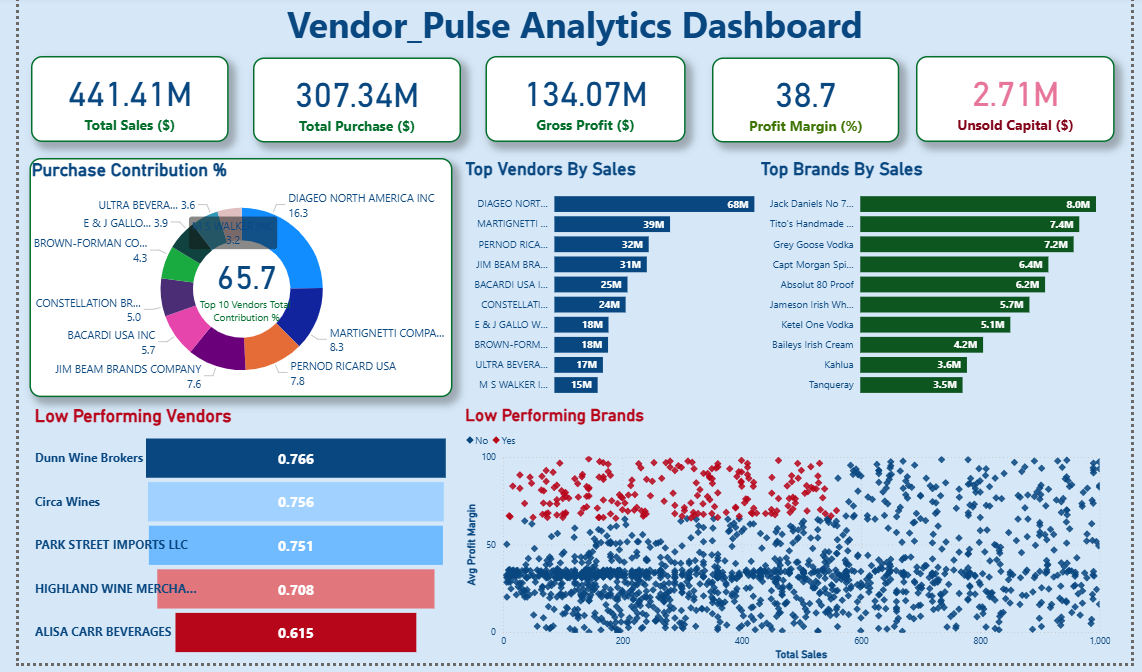

Layout of this report page (visuals, bound fields, positions):
{"tool":"powerbi","page":{"name":"Page 1","canvas":[1500,900],"ordinal":0},"visuals":[{"type":"card","fields":{"Values":["Sum(vendor_sales_summary.TotalPurchaseDollars)"]},"box":[315.8,82.4,280.9,114.6],"z":0},{"type":"card","fields":{"Values":["Sum(vendor_sales_summary.TotalSalesDollars)"]},"box":[16.8,81,266.9,116],"z":1000},{"type":"card","fields":{"Values":["Sum(vendor_sales_summary.GrossProfit)"]},"box":[630.2,81,269.7,116],"z":2000},{"type":"card","fields":{"Values":["Avg(vendor_sales_summary.ProfitMargin)"]},"box":[934.8,82.4,252.9,114.6],"z":3000},{"type":"card","fields":{"Values":["Sum(vendor_sales_summary.UnsoldCapital)"]},"box":[1210.1,81,268.3,116],"z":4000},{"type":"textbox","box":[0,0,1500,83],"z":5000},{"type":"donutChart","title":"Purchase Contribution % ","fields":{"Category":["PurchaseContribution.VendorName"],"Y":["Sum(PurchaseContribution.PurchaseContribution%)"]},"box":[14.5,219.4,571,322.6],"z":6000},{"type":"card","fields":{"Values":["Sum(PurchaseContribution.PurchaseContribution%)"]},"box":[211.8,266.7,188.2,233.3],"z":7000},{"type":"barChart","title":"Top Vendors By Sales","fields":{"Category":["vendor_sales_summary.VendorName"],"Y":["Sum(vendor_sales_summary.TotalSalesDollars)"]},"box":[597.3,219.2,447.9,332.9],"z":8000},{"type":"barChart","title":"Top Brands By Sales","fields":{"Category":["vendor_sales_summary.Description"],"Y":["Sum(vendor_sales_summary.TotalSalesDollars)"]},"box":[995.9,219.2,504.1,332.9],"z":9000},{"type":"funnel","title":"Low Performing Vendors","fields":{"Category":["LowTurnoverVendor.VendorName"],"Y":["Avg(LowTurnoverVendor.AvgStockTurnOver)"]},"box":[16.1,551.6,569.4,348.4],"z":10000},{"type":"scatterChart","title":"Low Performing Brands","fields":{"X":["Sum(BrandPerformance.TotalSales)"],"Y":["Sum(BrandPerformance.AvgProfitMargin)"],"Series":["BrandPerformance.TargetBrand"],"Category":["BrandPerformance.Description"]},"box":[596.8,551.6,880.6,348.4],"z":11000}]}

Visuals, with their boxes in screenshot pixels (x1, y1, x2, y2), scaled from the page's 1500x900 canvas onto the 1142x672 screenshot:
card - Sum(vendor_sales_summary.TotalPurchaseDollars): x1=240, y1=62, x2=454, y2=147
card - Sum(vendor_sales_summary.TotalSalesDollars): x1=13, y1=60, x2=216, y2=147
card - Sum(vendor_sales_summary.GrossProfit): x1=480, y1=60, x2=685, y2=147
card - Avg(vendor_sales_summary.ProfitMargin): x1=712, y1=62, x2=904, y2=147
card - Sum(vendor_sales_summary.UnsoldCapital): x1=921, y1=60, x2=1126, y2=147
textbox: x1=0, y1=0, x2=1141, y2=62
"Purchase Contribution % " donutChart: x1=11, y1=164, x2=446, y2=405
card - Sum(PurchaseContribution.PurchaseContribution%): x1=161, y1=199, x2=305, y2=373
"Top Vendors By Sales" barChart: x1=455, y1=164, x2=796, y2=412
"Top Brands By Sales" barChart: x1=758, y1=164, x2=1141, y2=412
"Low Performing Vendors" funnel: x1=12, y1=412, x2=446, y2=671
"Low Performing Brands" scatterChart: x1=454, y1=412, x2=1125, y2=671
